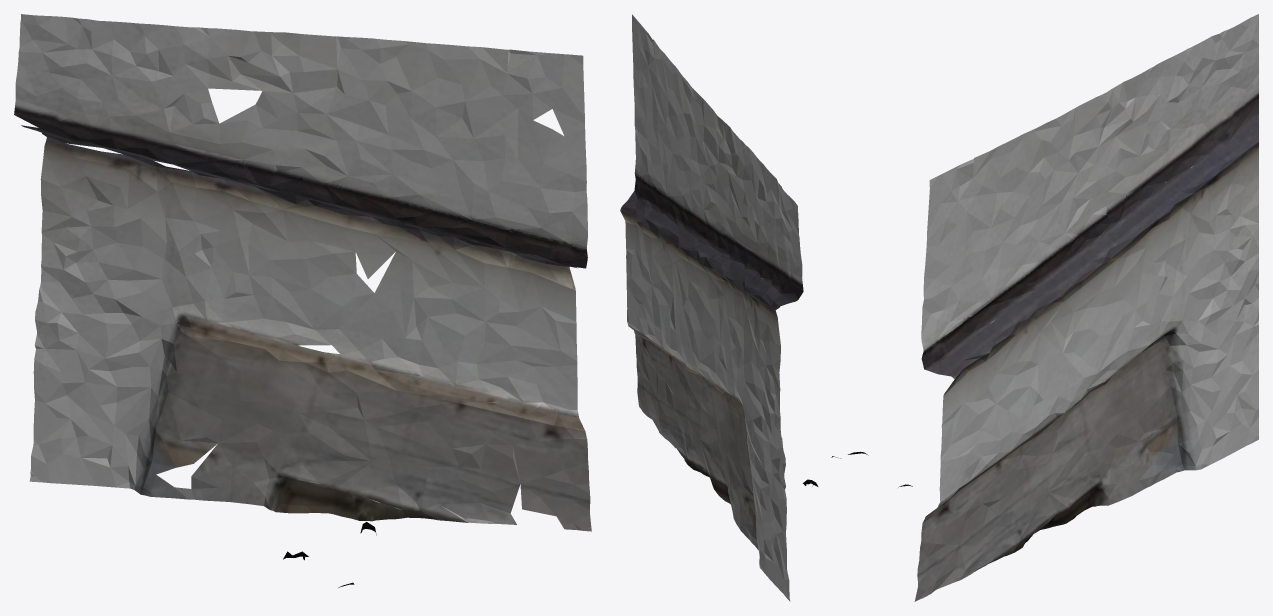
3 views of the same model, side by side, from view 1: azimuth 30°, elevation 25°; view 2: azimuth 150°, elevation 25°; view 3: azimuth 270°, elevation 25° (orthographic). The views are drawn at different scales.
Bounding box in the file's own units: 0.7199 × 0.8374 × 0.6507.
Materials: 3 (3 with a texture image).
